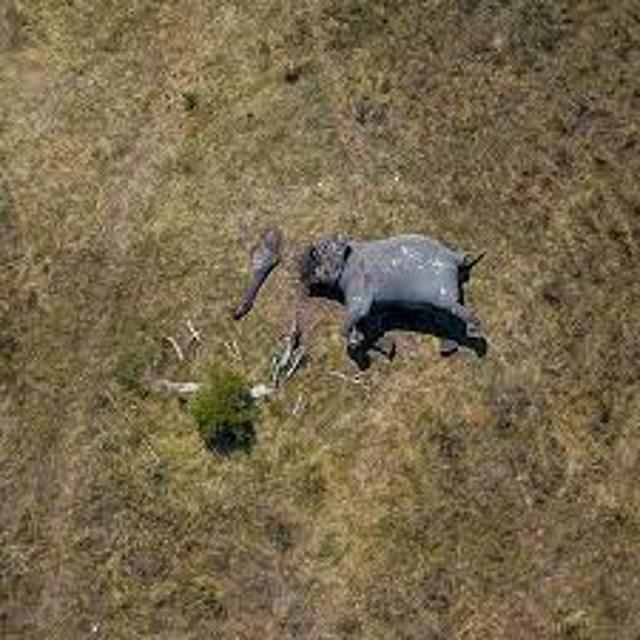elephant: (214, 208, 508, 385)
